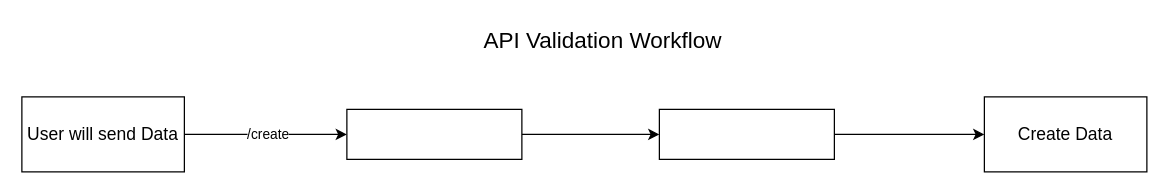
Image size: 1169x194. Some labels were removed from this diagram. The shapes that lost their labels are listed below. From the top down, each one's centre as x and y in pixels, then its label:
point 434,133: Validate Middleware
point 746,133: Other Middleware
